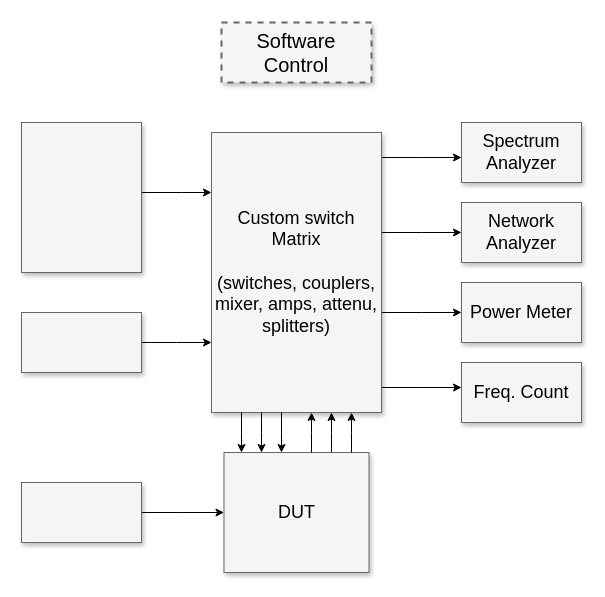
This 605x597 diagram has some shape labels left out. Each missing label, with the centre of its shape:
ARB / Mod Source: point 82,344
DC Power Supplies: point 82,514
SCADA: point 82,199
